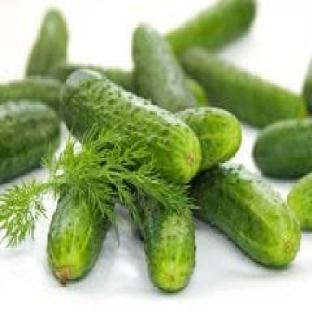Cucumber: (62, 70, 201, 183), (190, 165, 300, 266), (181, 49, 306, 126), (133, 25, 197, 112), (137, 195, 194, 292), (47, 195, 109, 284), (0, 101, 59, 182), (177, 108, 241, 169), (254, 118, 311, 178), (26, 9, 68, 76), (51, 63, 136, 93), (0, 77, 61, 112), (287, 174, 311, 230), (186, 77, 209, 107), (303, 63, 311, 112)
